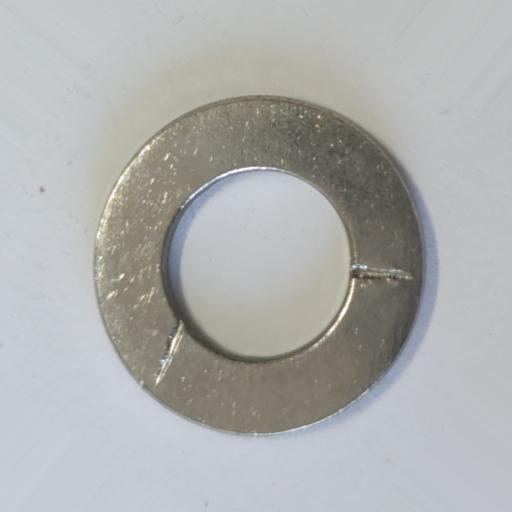scratch: (154, 319, 186, 390), (347, 263, 416, 283)
